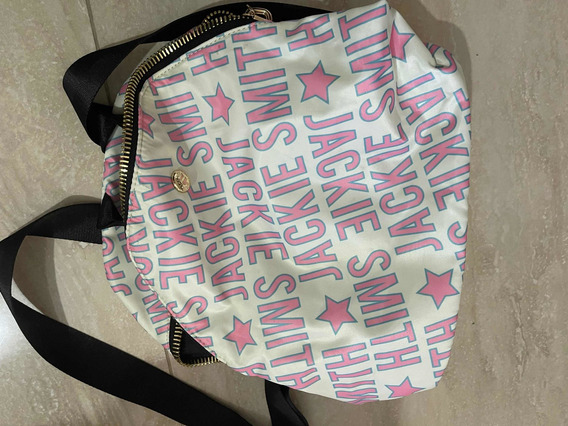cartera: (99, 3, 471, 405)
